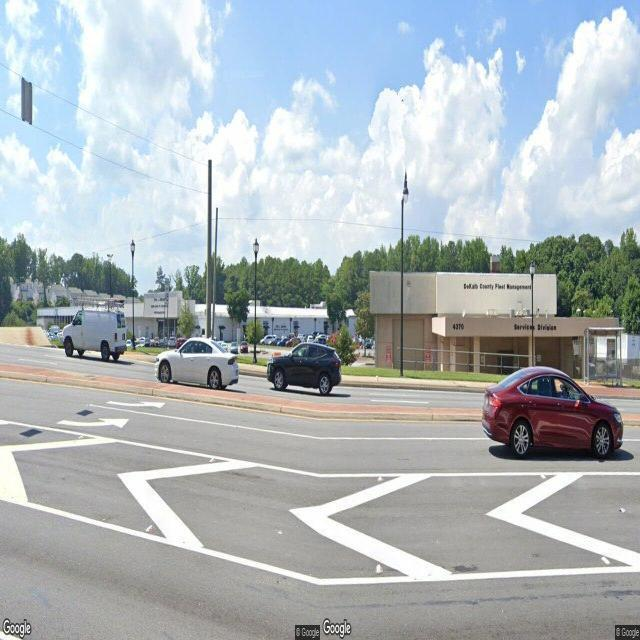seating: (595, 372, 619, 386)
shelter: (582, 327, 626, 388)
